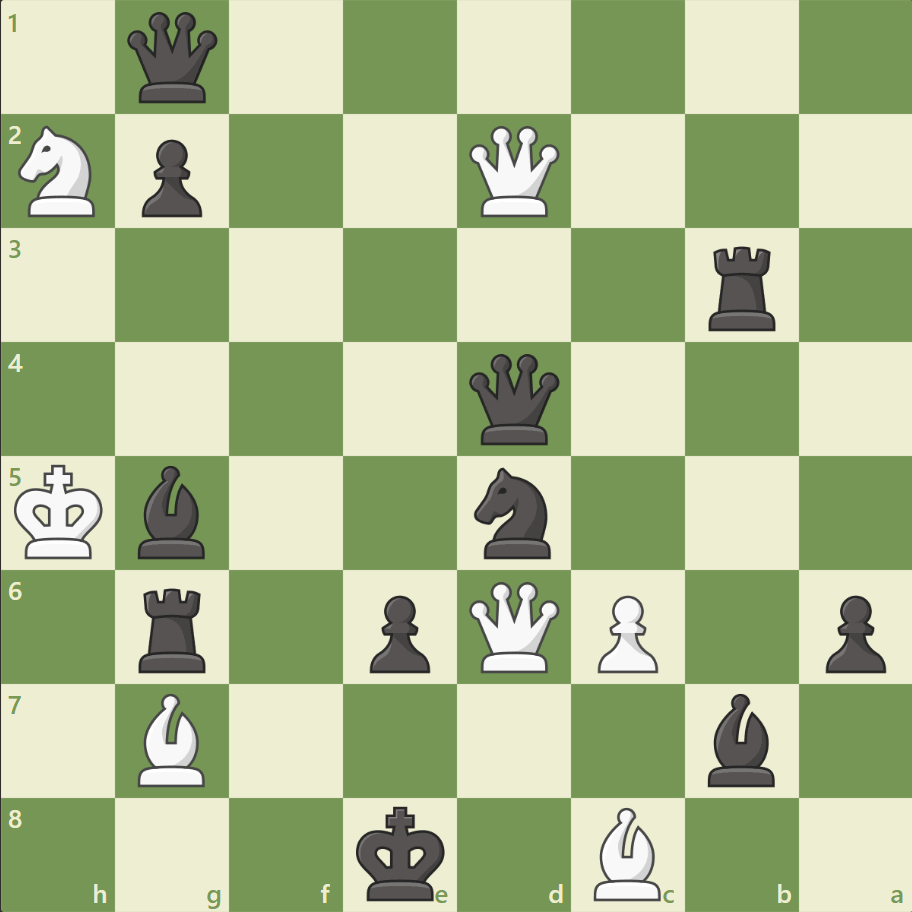B: (585, 801, 669, 904), (131, 687, 215, 790)
K: (11, 458, 111, 566)
N: (11, 121, 108, 223)
P: (588, 586, 662, 677)
Q: (464, 576, 563, 676), (464, 122, 563, 222)
b: (698, 687, 782, 790), (131, 460, 215, 563)
k: (351, 798, 451, 906)
n: (465, 461, 562, 564)
p: (133, 132, 208, 223), (815, 586, 889, 677), (361, 586, 435, 677)
q: (464, 349, 563, 449), (124, 9, 223, 108)
r: (700, 239, 783, 336), (133, 579, 215, 676)
